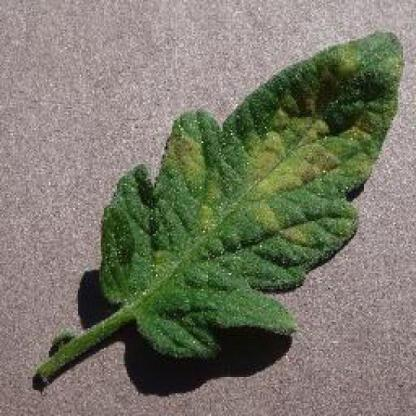Tomato_Leaf_Mold: (101, 29, 403, 358)
